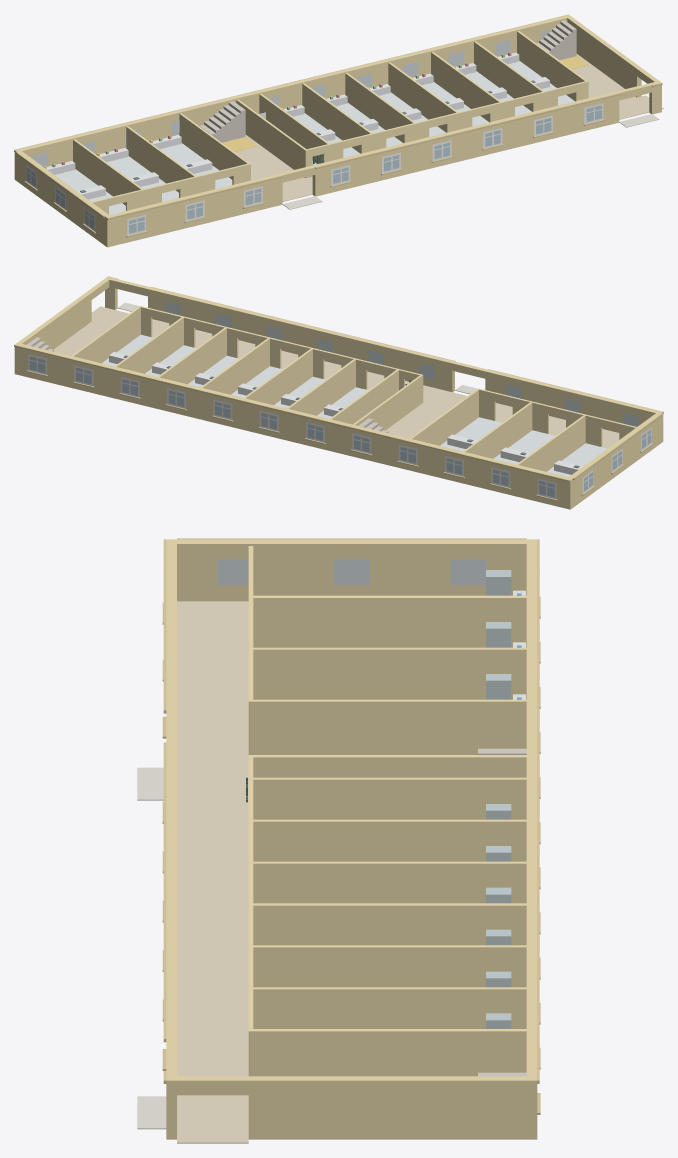
The picture shows the model from 3 angles, top to bottom: view 1: azimuth 30°, elevation 25°; view 2: azimuth 150°, elevation 25°; view 3: azimuth 270°, elevation 25°; orthographic projection. The views are drawn at different scales.
Parts seen in each view (by area): view 1: HUS_T3__F1__E9C977, HUS_T3__F1__F2D17C, HUS_T3__F1__D3E0E3, HUS_T3__F1__E6ECEE, HUS_T3__F1__CDB892, HUS_T3__F1__C8AD66, HUS_T3__F1__BFB3A0, HUS_T3__F1__FBF8F1, HUS_T3__F1__B4C7CD, HUS_T3__F1__87AABD, HUS_T3__F1__86A9BC, HUS_T3__F1__C4A964 (+2 smaller); view 2: HUS_T3__F1__E9C977, HUS_T3__F1__F2D17C, HUS_T3__F1__CDB892, HUS_T3__F1__D3E0E3, HUS_T3__F1__FBF8F1, HUS_T3__F1__C8AD66, HUS_T3__F1__86A9BC, HUS_T3__F1__E6ECEE, HUS_T3__F1__B4C7CD, HUS_T3__F1__C4A964, HUS_T3__F1__87AABD, HUS_T3__F1__BFB3A0; view 3: HUS_T3__F1__F2D17C, HUS_T3__F1__E9C977, HUS_T3__F1__CDB892, HUS_T3__F1__9DB4BC, HUS_T3__F1__C8AD66, HUS_T3__F1__B4C7CD, HUS_T3__F1__D7D1C2, HUS_T3__F1__C4A964.
Boxes of the visible parts, x1,y1,x2,y2 form: HUS_T3__F1__E9C977: (14, 15, 661, 247); HUS_T3__F1__F2D17C: (73, 31, 588, 214); HUS_T3__F1__D3E0E3: (55, 61, 574, 214); HUS_T3__F1__E6ECEE: (46, 52, 549, 199); HUS_T3__F1__CDB892: (234, 54, 663, 201); HUS_T3__F1__C8AD66: (14, 14, 662, 219); HUS_T3__F1__BFB3A0: (199, 20, 576, 142); HUS_T3__F1__FBF8F1: (26, 103, 603, 235); HUS_T3__F1__B4C7CD: (32, 29, 551, 166); HUS_T3__F1__87AABD: (26, 142, 449, 233); HUS_T3__F1__86A9BC: (85, 105, 601, 229); HUS_T3__F1__C4A964: (24, 119, 604, 237); HUS_T3__F1__E9C977: (14, 277, 663, 509); HUS_T3__F1__F2D17C: (72, 306, 636, 471); HUS_T3__F1__CDB892: (54, 306, 619, 448); HUS_T3__F1__D3E0E3: (102, 334, 607, 477); HUS_T3__F1__FBF8F1: (28, 354, 651, 499); HUS_T3__F1__C8AD66: (14, 276, 663, 482); HUS_T3__F1__86A9BC: (29, 356, 651, 497); HUS_T3__F1__E6ECEE: (109, 352, 582, 474); HUS_T3__F1__B4C7CD: (165, 301, 638, 426); HUS_T3__F1__C4A964: (26, 370, 653, 500); HUS_T3__F1__87AABD: (168, 390, 621, 491); HUS_T3__F1__BFB3A0: (27, 337, 388, 432); HUS_T3__F1__F2D17C: (248, 546, 526, 1076); HUS_T3__F1__E9C977: (166, 539, 537, 1139); HUS_T3__F1__CDB892: (177, 601, 248, 1143); HUS_T3__F1__9DB4BC: (486, 570, 511, 1028); HUS_T3__F1__C8AD66: (163, 538, 539, 1083); HUS_T3__F1__B4C7CD: (217, 559, 486, 585); HUS_T3__F1__D7D1C2: (137, 767, 166, 1129); HUS_T3__F1__C4A964: (162, 596, 540, 1114).
Size of the model in its own units: 79.91 by 4 by 24.9.
